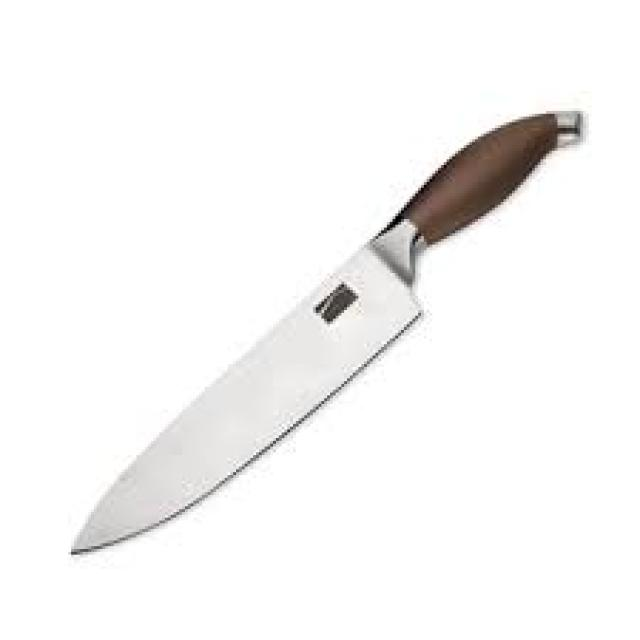knife: (60, 85, 596, 586)
